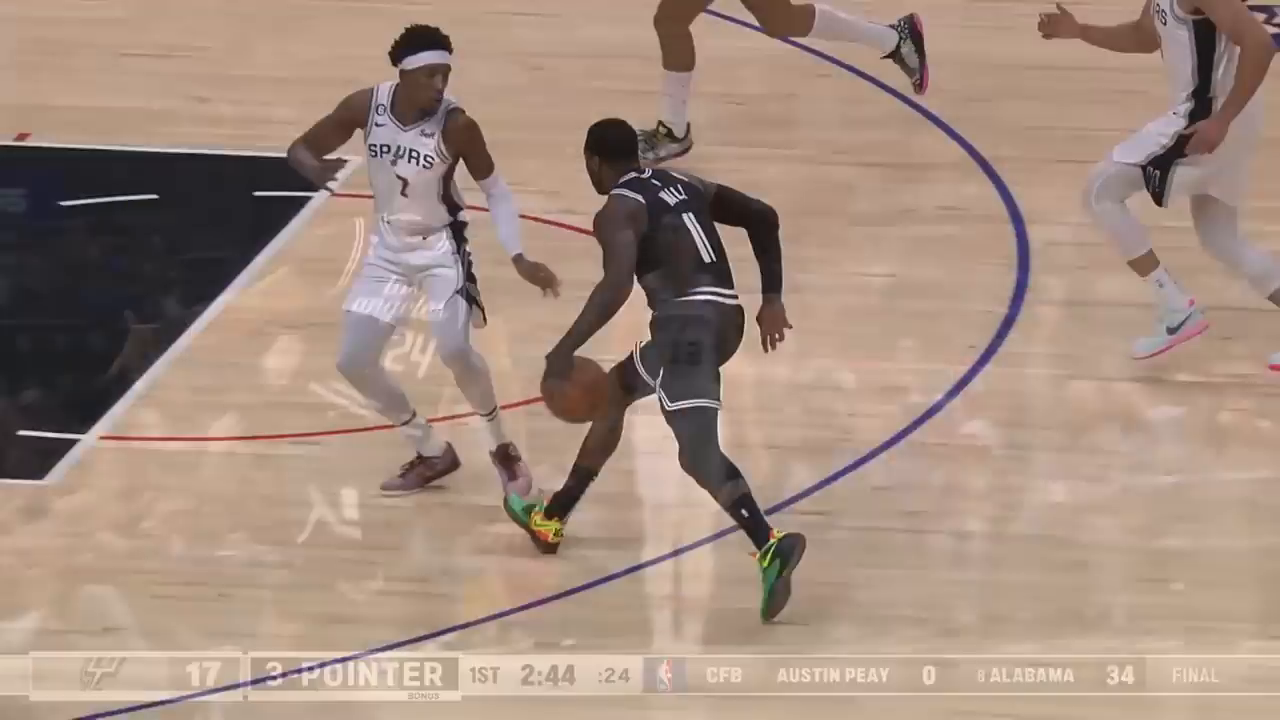ball: (530, 344, 630, 430)
